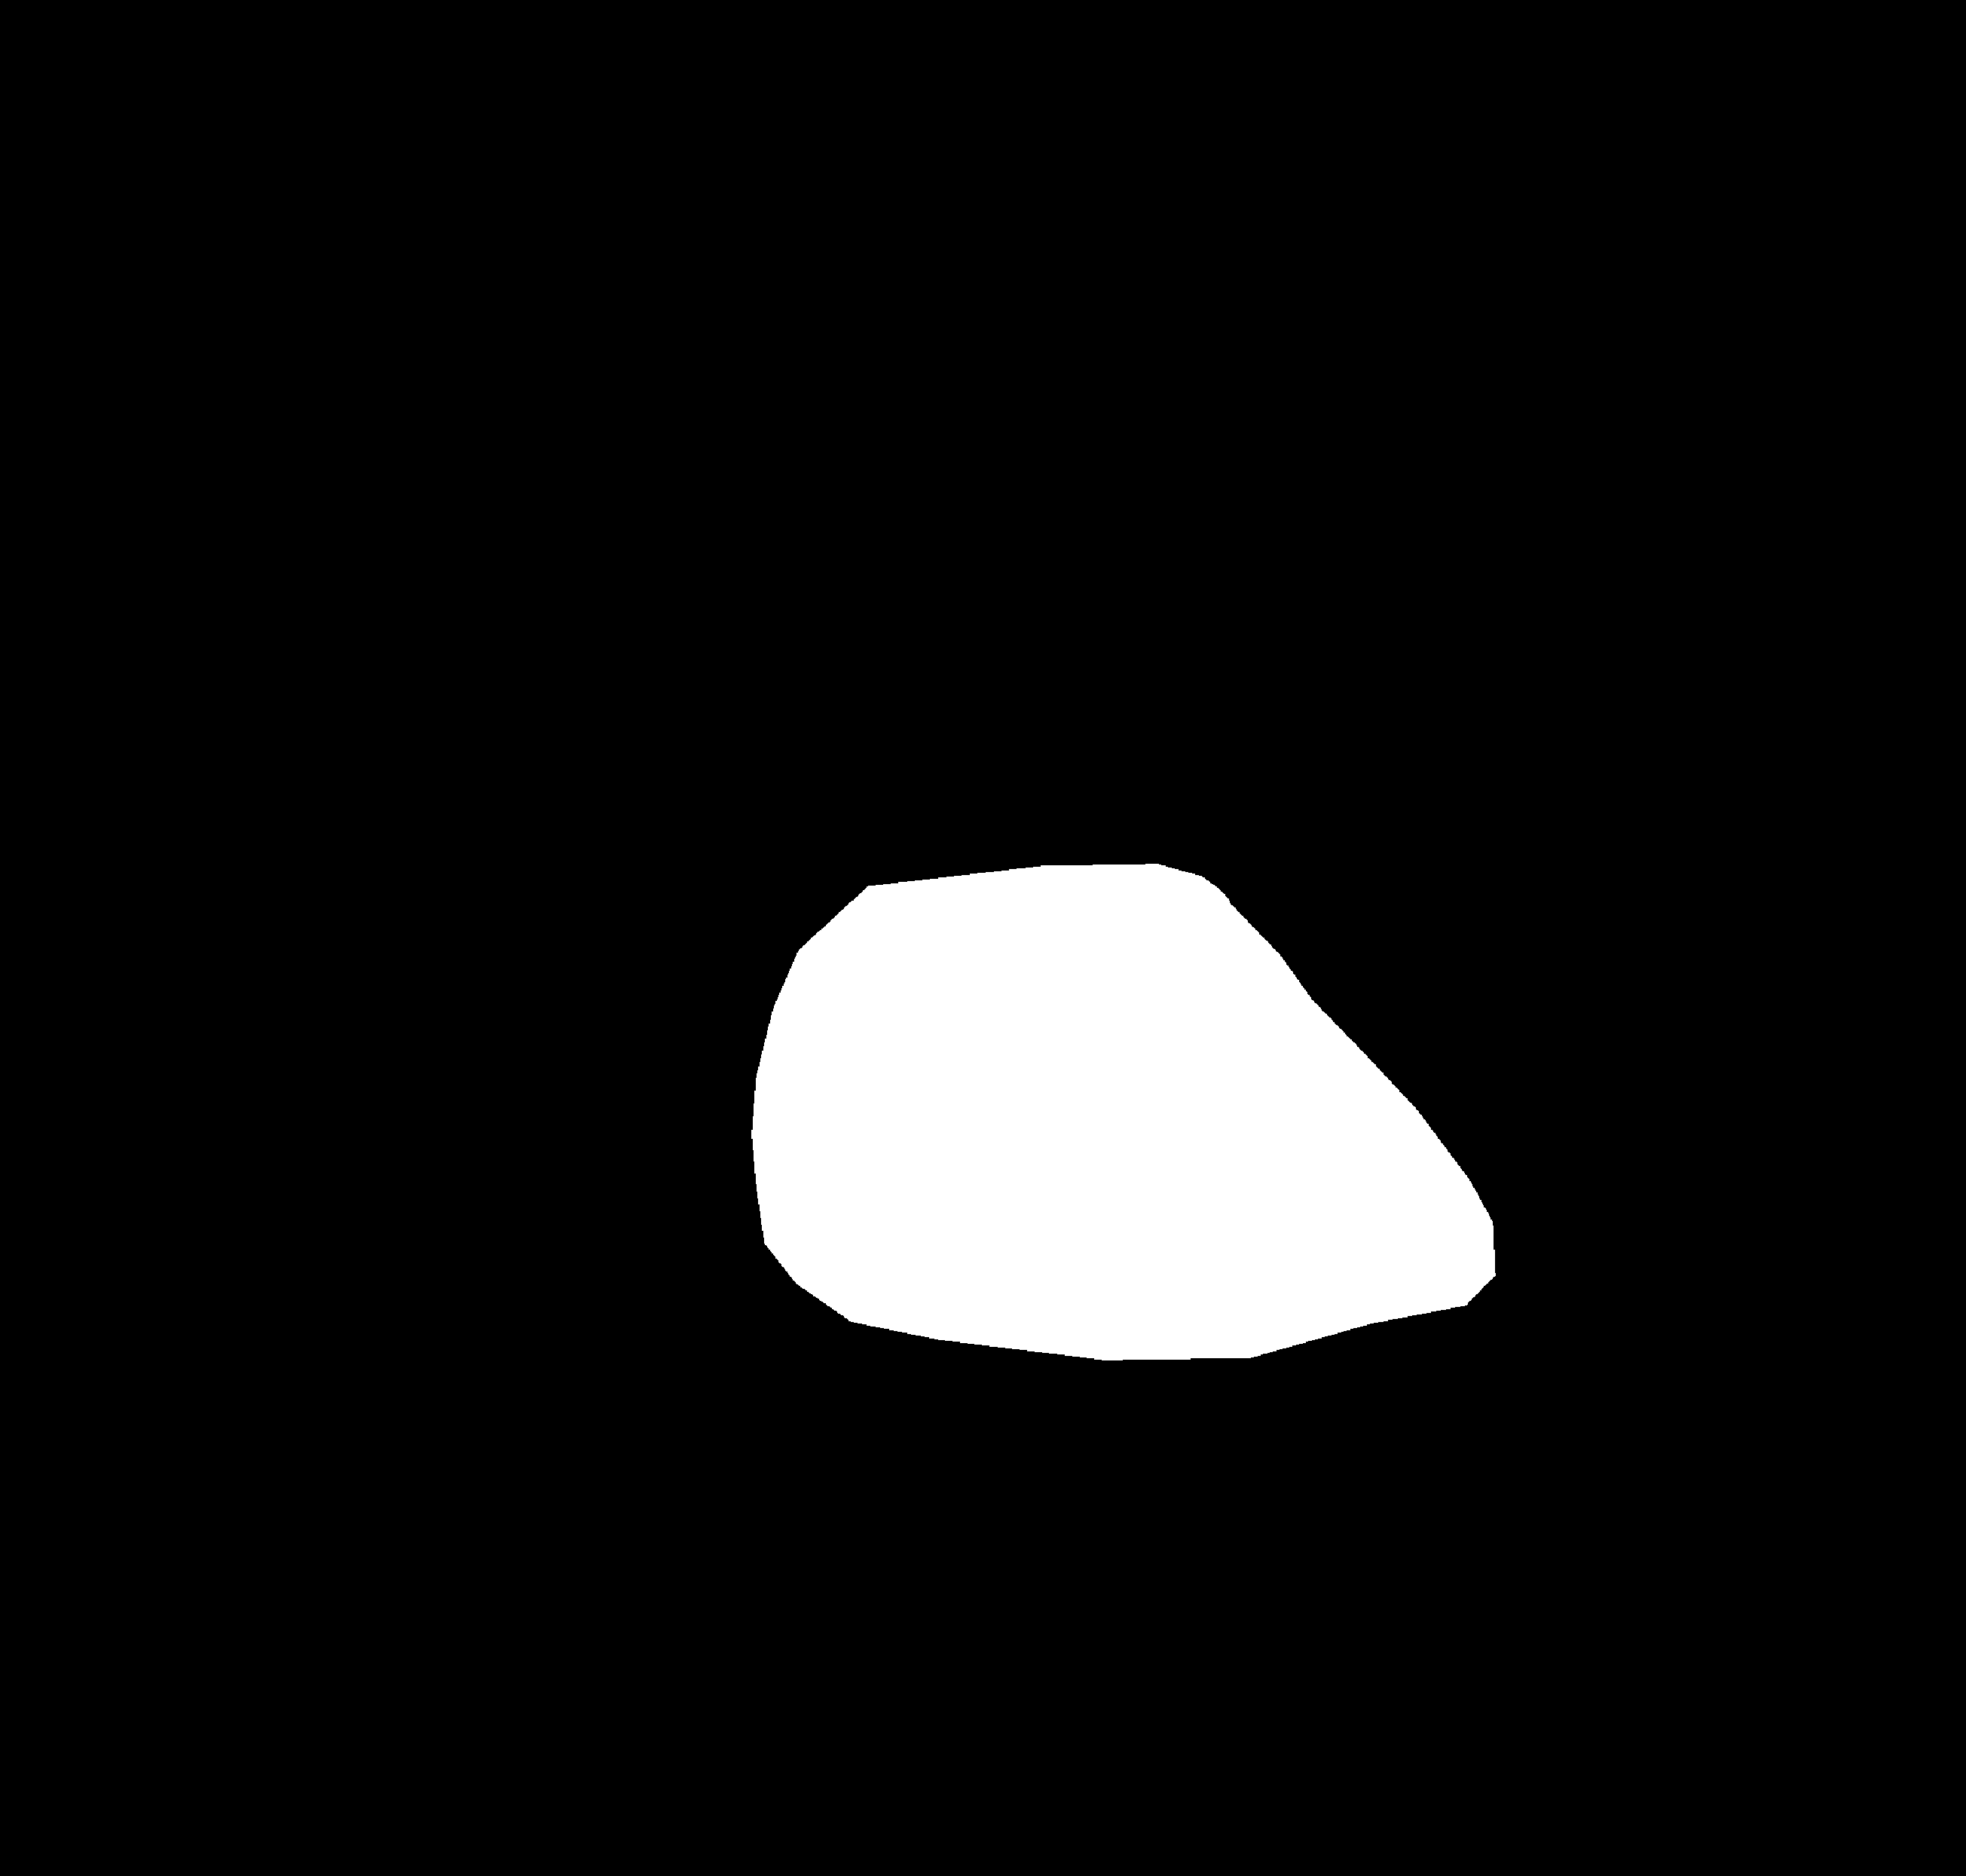heart: (757, 934, 1501, 1375)
left_lung: (200, 167, 886, 1467)
right_lung: (1039, 151, 1790, 1456)
